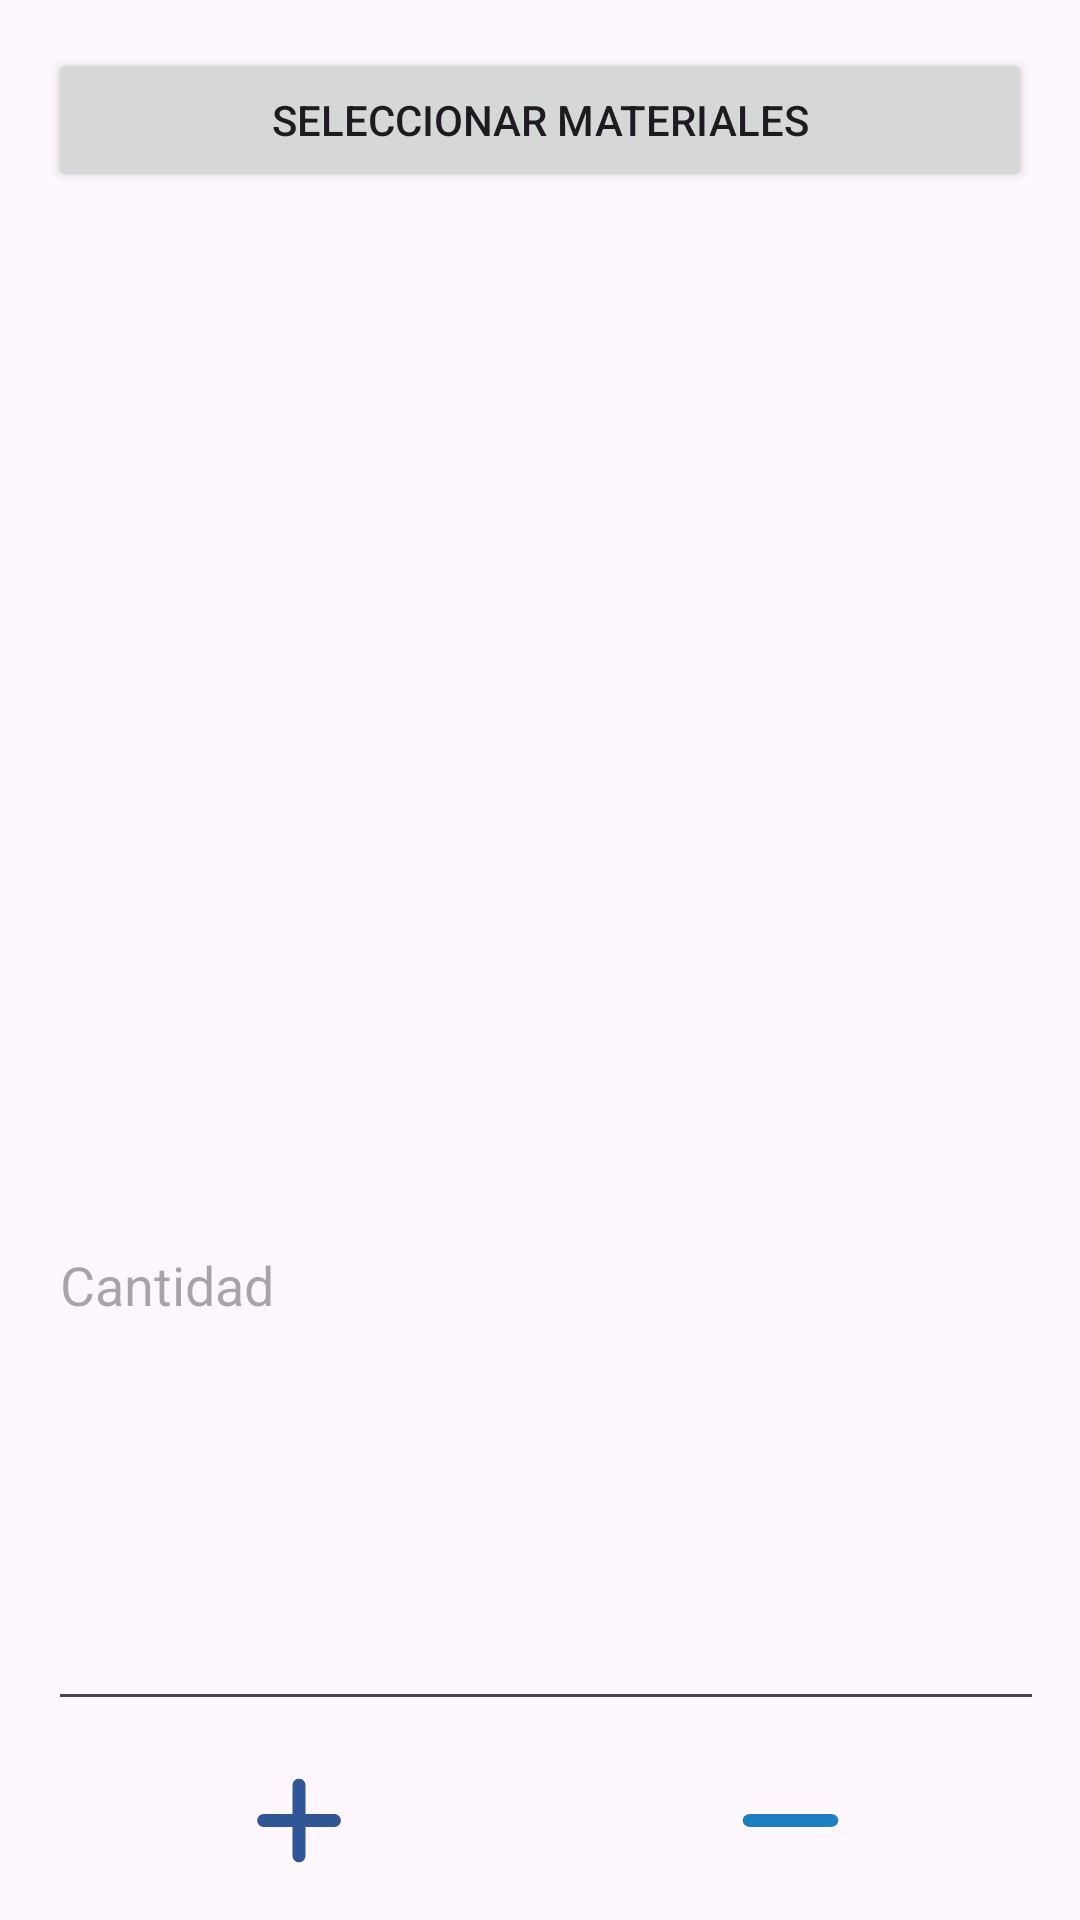

Icons on this 1080w x 1920h Android screen, each with its box as (x1, y1, x2, y2):
plus: (257, 1778, 341, 1863)
